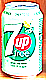sevenup: (1, 1, 43, 79)
